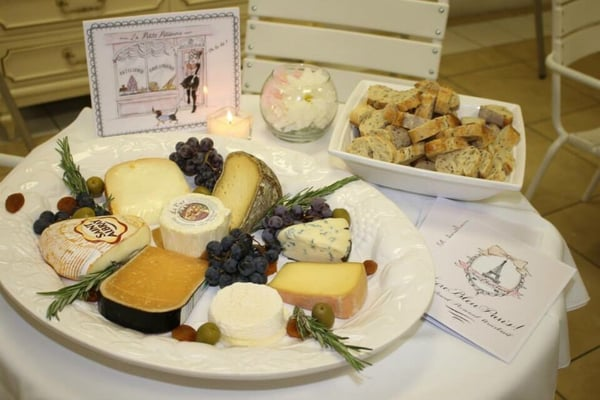pasta: (211, 150, 283, 232), (159, 192, 231, 258)
sushi: (327, 78, 527, 200), (259, 63, 339, 143)
